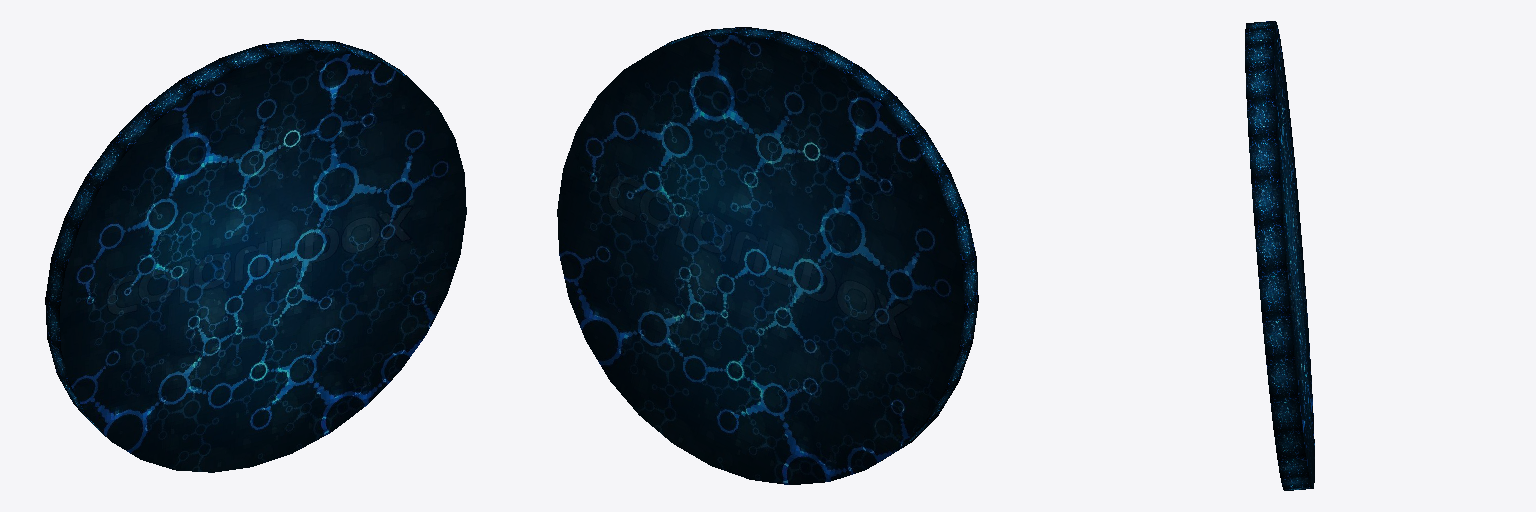
3 views of the same model, side by side, from view 1: azimuth 30°, elevation 25°; view 2: azimuth 150°, elevation 25°; view 3: azimuth 270°, elevation 25° (orthographic).
Parts seen in each view (by area): view 1: Cylinder; view 2: Cylinder; view 3: Cylinder.
Part boxes in pixels (x1,y1,x2,y2): Cylinder: (45, 39, 466, 472); Cylinder: (557, 27, 978, 484); Cylinder: (1245, 21, 1314, 490).
Size of the model in its own units: 2 by 2 by 0.2983.
Materials: 1 (1 with a texture image).